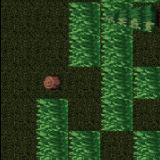Obstacle: (34, 66, 68, 99), (133, 2, 160, 34)
Slow: (101, 0, 133, 130), (68, 1, 100, 66), (34, 99, 66, 160), (67, 130, 99, 160), (132, 66, 160, 99), (133, 130, 160, 160)
